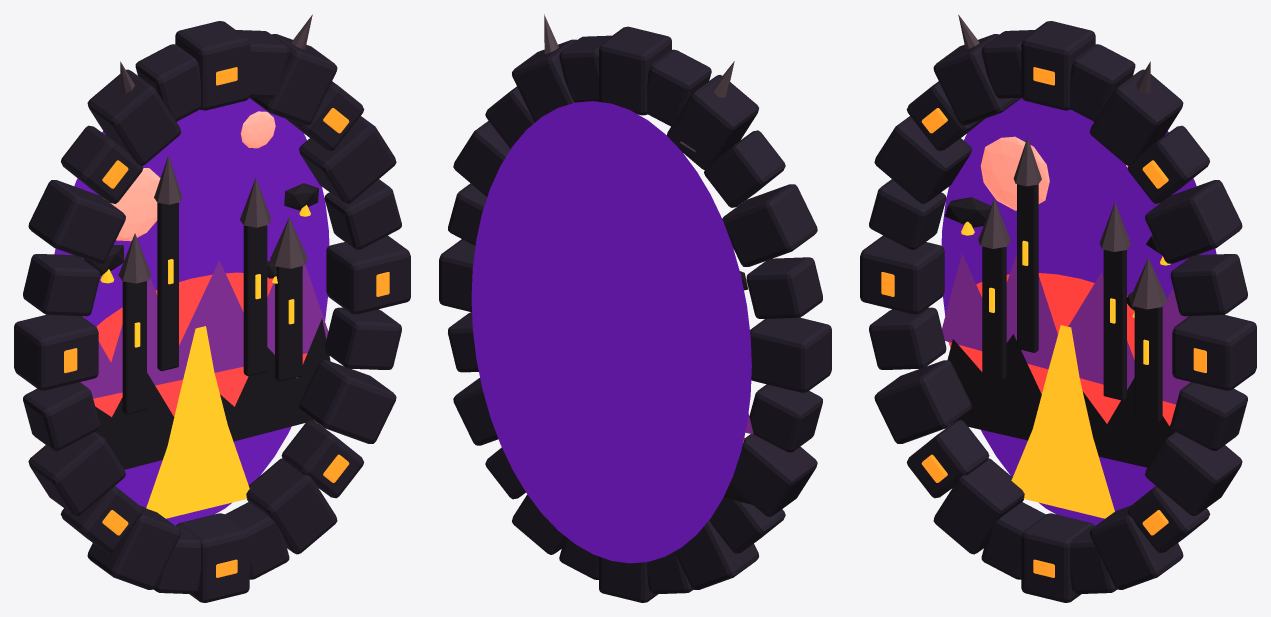
The model's file is InfernalPortalVista.fbx.
The picture shows the model from 3 angles, left to right: view 1: azimuth 30°, elevation 25°; view 2: azimuth 150°, elevation 25°; view 3: azimuth 330°, elevation 25°; orthographic projection.
Parts seen in each view (by area): view 1: Vista_Sky, Vista_LavaRiver, Vista_NearCliffs, Vista_FarMountains, Portal_FrameStone.12, Portal_FrameStone.10, Portal_FrameStone.22, Portal_FrameStone.00, Portal_FrameStone.08, Portal_FrameStone.14, Portal_FrameStone.20, Portal_FrameStone.02 (+28 smaller); view 2: Vista_Sky, Portal_FrameStone.12, Portal_FrameStone.10, Portal_FrameStone.08, Portal_FrameStone.14, Portal_FrameStone.06, Portal_FrameStone.11, Portal_FrameStone.13, Portal_FrameStone.09, Portal_FrameStone.07, Portal_FrameStone.16, Portal_FrameStone.04 (+13 smaller); view 3: Vista_Sky, Vista_LavaRiver, Vista_NearCliffs, Vista_FarMountains, Portal_FrameStone.00, Portal_FrameStone.02, Portal_FrameStone.14, Portal_FrameStone.12, Portal_FrameStone.04, Portal_FrameStone.22, Portal_FrameStone.16, Portal_FrameStone.10 (+27 smaller).
Part boxes in pixels (x1,y1,x2,y2): Vista_Sky: (54, 98, 329, 525); Vista_LavaRiver: (146, 326, 249, 518); Vista_NearCliffs: (95, 318, 330, 469); Vista_FarMountains: (80, 260, 328, 398); Portal_FrameStone.12: (14, 315, 98, 390); Portal_FrameStone.10: (28, 180, 125, 263); Portal_FrameStone.22: (299, 360, 396, 443); Portal_FrameStone.00: (326, 235, 410, 314); Portal_FrameStone.08: (87, 69, 181, 165); Portal_FrameStone.14: (28, 432, 125, 515); Portal_FrameStone.20: (246, 458, 337, 554); Portal_FrameStone.02: (299, 116, 396, 203); Vista_Sky: (471, 101, 751, 563); Portal_FrameStone.12: (750, 317, 831, 392); Portal_FrameStone.10: (722, 184, 817, 266); Portal_FrameStone.08: (666, 75, 758, 170); Portal_FrameStone.14: (729, 434, 817, 516); Portal_FrameStone.06: (599, 26, 671, 115); Portal_FrameStone.11: (746, 257, 822, 318); Portal_FrameStone.13: (749, 384, 822, 452); Portal_FrameStone.09: (704, 130, 785, 207); Portal_FrameStone.07: (647, 49, 711, 126); Portal_FrameStone.16: (674, 520, 759, 589); Portal_FrameStone.04: (512, 39, 576, 122); Vista_Sky: (941, 98, 1216, 525); Vista_LavaRiver: (1011, 325, 1114, 518); Vista_NearCliffs: (947, 334, 1175, 467); Vista_FarMountains: (942, 254, 1190, 404); Portal_FrameStone.00: (1172, 315, 1256, 390); Portal_FrameStone.02: (1145, 180, 1242, 263); Portal_FrameStone.14: (874, 360, 971, 443); Portal_FrameStone.12: (860, 235, 944, 314); Portal_FrameStone.04: (1089, 69, 1183, 165); Portal_FrameStone.22: (1145, 432, 1242, 515); Portal_FrameStone.16: (933, 458, 1024, 554); Portal_FrameStone.10: (874, 116, 971, 203).
Size of the model in its own units: 1.79 by 2.55 by 0.322.
